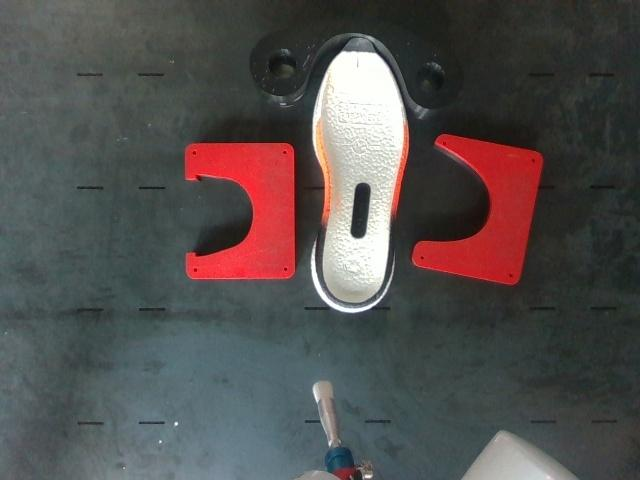shoes: (319, 38, 404, 306)
